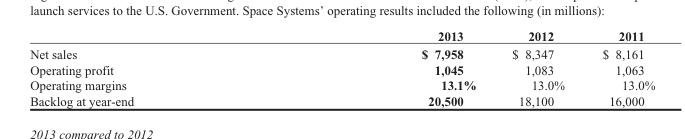table: (29, 28, 654, 107)
table column: (29, 28, 277, 107), (277, 28, 493, 107), (493, 28, 582, 107), (582, 28, 654, 107)
table column header: (29, 28, 654, 44)
table row: (29, 44, 654, 61), (29, 28, 654, 44), (29, 61, 654, 77), (29, 77, 654, 92), (29, 92, 654, 107)
